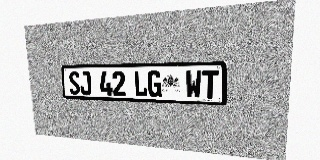2: (112, 71, 125, 96)
4: (100, 71, 113, 96)
G: (147, 71, 162, 97)
J: (79, 71, 92, 95)
L: (134, 71, 148, 97)
S: (68, 71, 80, 95)
T: (202, 70, 218, 99)
W: (186, 70, 201, 99)
